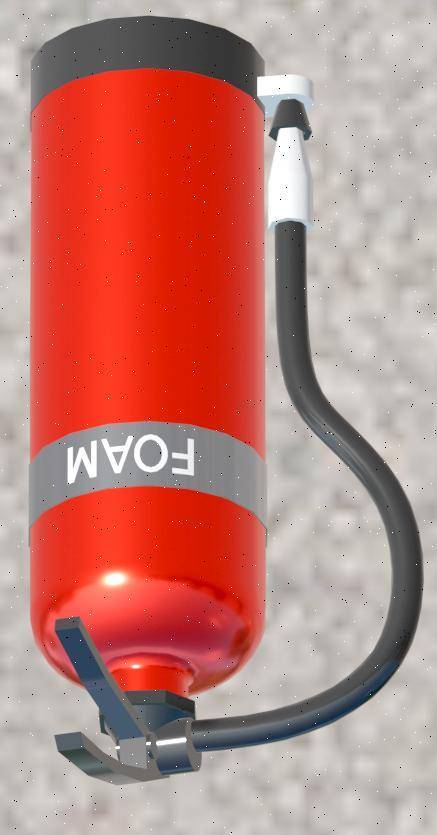Fire Extinguisher: (20, 15, 430, 798)
